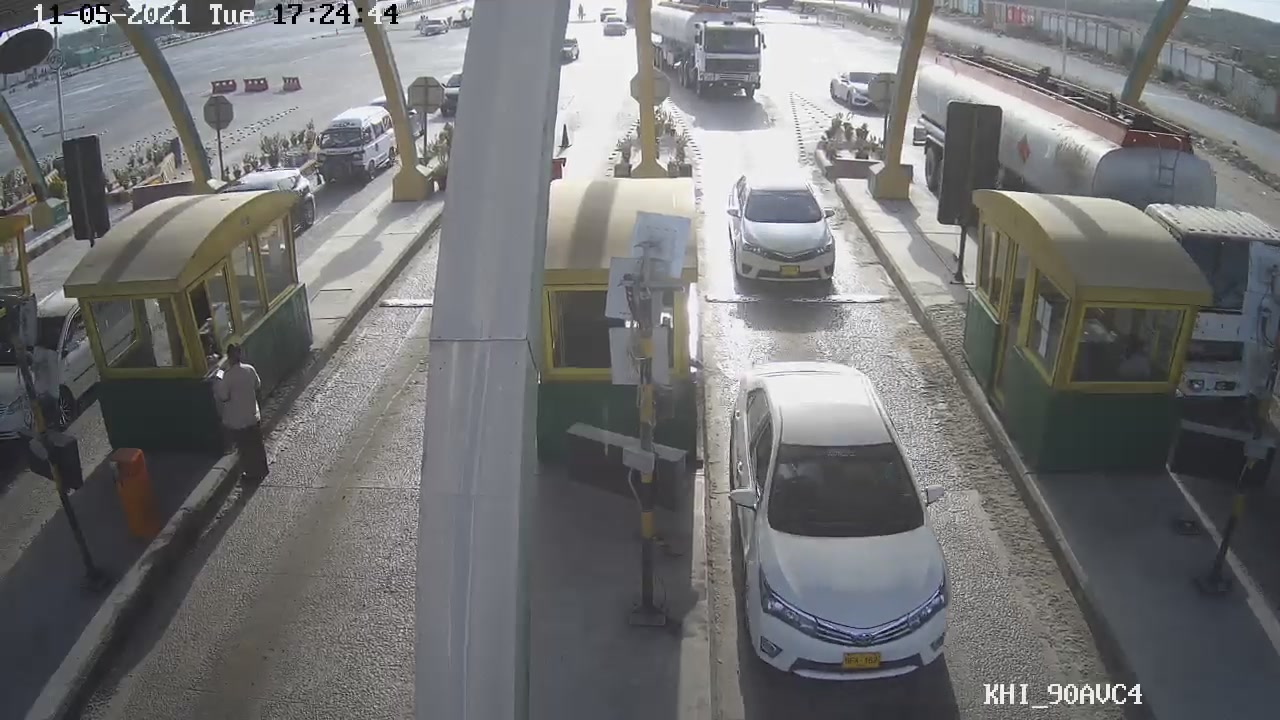F1: (719, 359, 975, 681), (707, 162, 860, 292)
